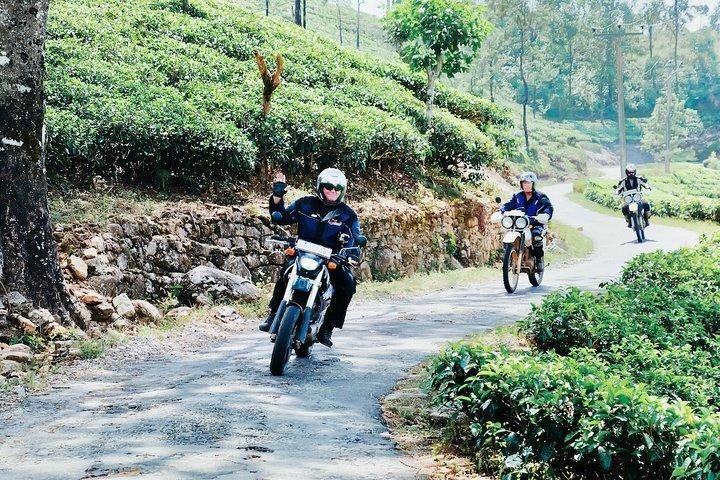motorbike: (262, 210, 367, 378), (490, 197, 549, 294), (612, 178, 653, 243)
